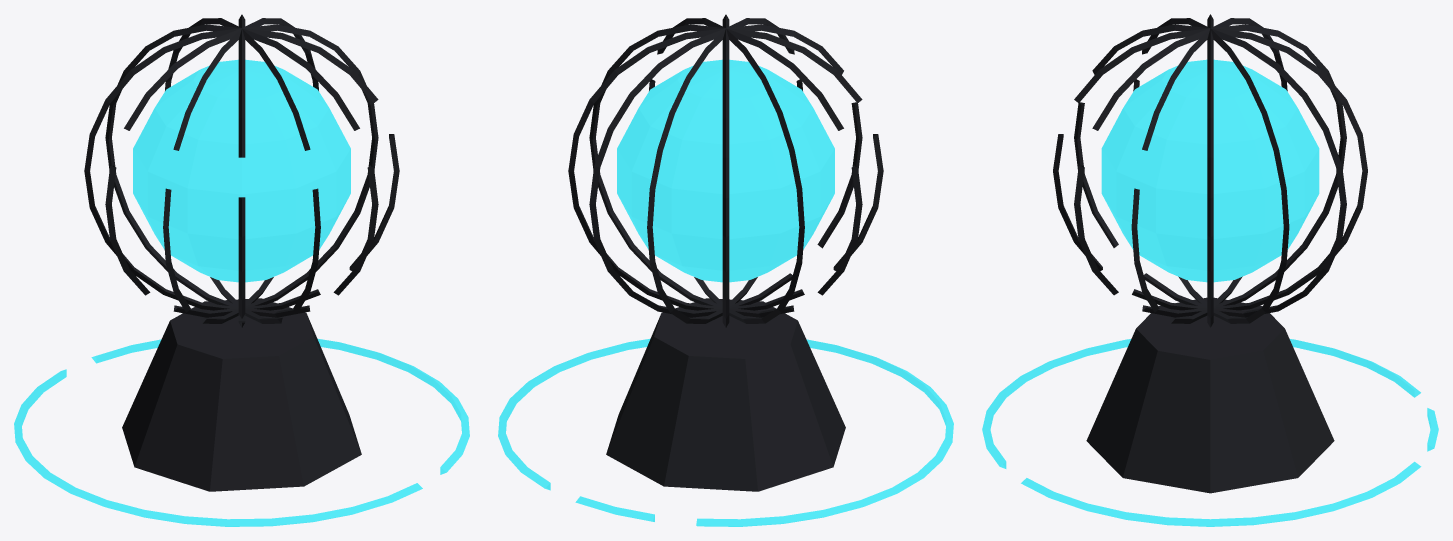
Rendered from savepoint.glb.
3 views of the same model, side by side, from view 1: azimuth 30°, elevation 25°; view 2: azimuth 150°, elevation 25°; view 3: azimuth 270°, elevation 25° (orthographic).
Visible parts, largest first — view 1: savepoint; view 2: savepoint; view 3: savepoint.
Boxes of the visible parts, x1,y1,x2,y2 form: savepoint: (14,14,469,526); savepoint: (498,14,953,526); savepoint: (982,14,1438,526).
Bounding box in the file's own units: 1.84 × 1.84 × 1.84.
